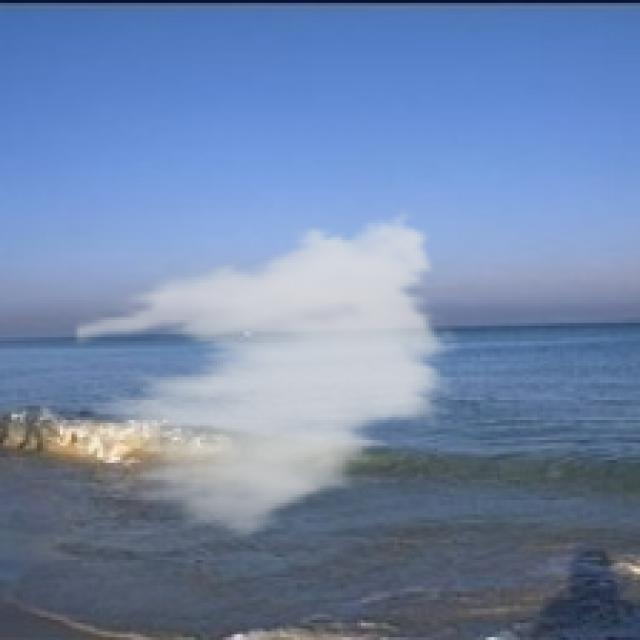smoke: (74, 203, 463, 546)
